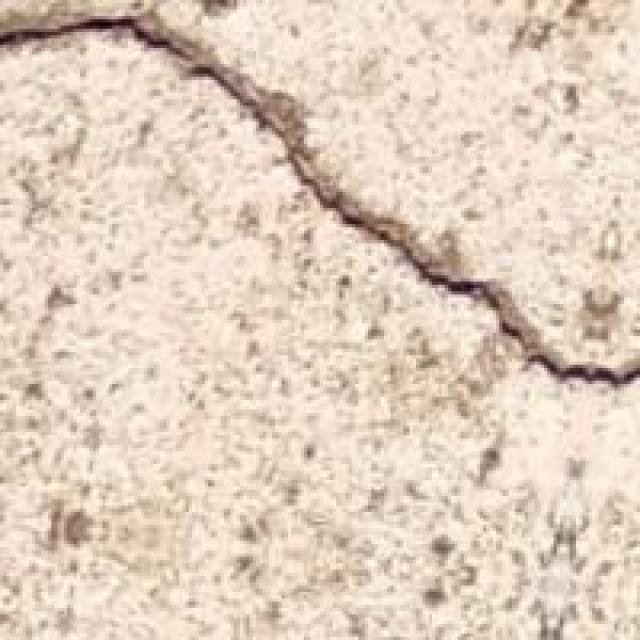crack: (6, 0, 636, 390)
